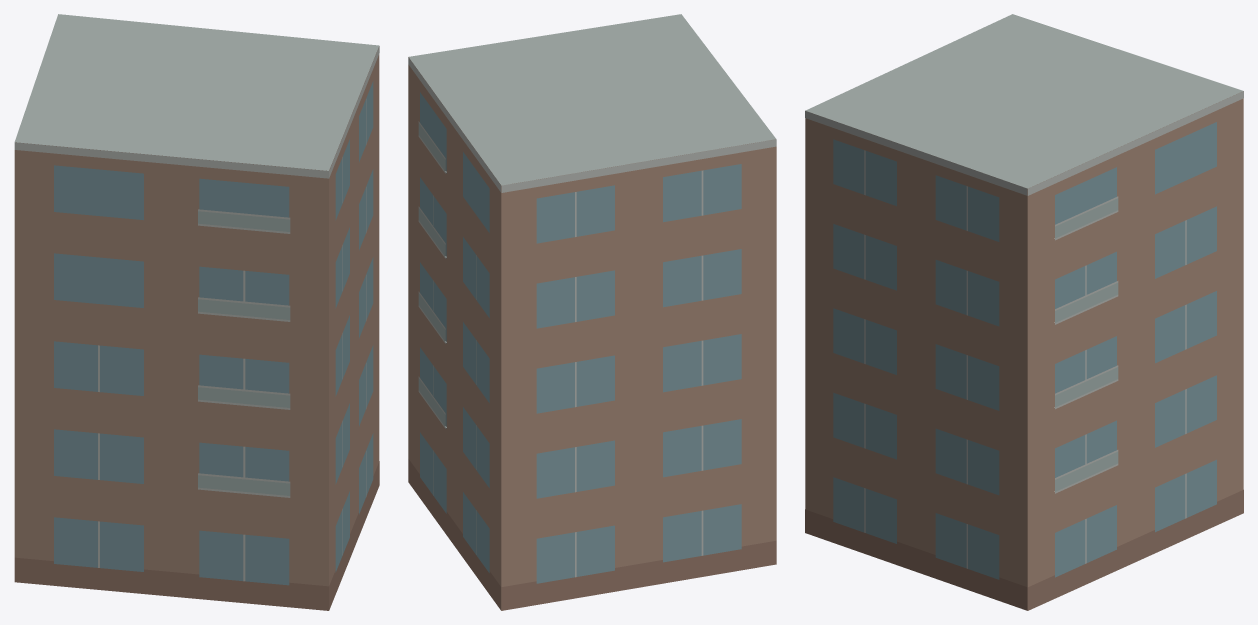
File: survey-upis-32604673.glb
3 views of the same model, side by side, from view 1: azimuth 30°, elevation 25°; view 2: azimuth 150°, elevation 25°; view 3: azimuth 270°, elevation 25° (orthographic). The views are drawn at different scales.
Parts seen in each view (by area): view 1: survey-upis-32604673.tmp; view 2: survey-upis-32604673.tmp; view 3: survey-upis-32604673.tmp.
Boxes of the visible parts, box(x1,y1,x2,y2) form: survey-upis-32604673.tmp: box(14, 14, 379, 610); survey-upis-32604673.tmp: box(408, 14, 776, 610); survey-upis-32604673.tmp: box(805, 14, 1243, 610).
Bounding box in the file's own units: 12.43 × 14 × 13.19.
